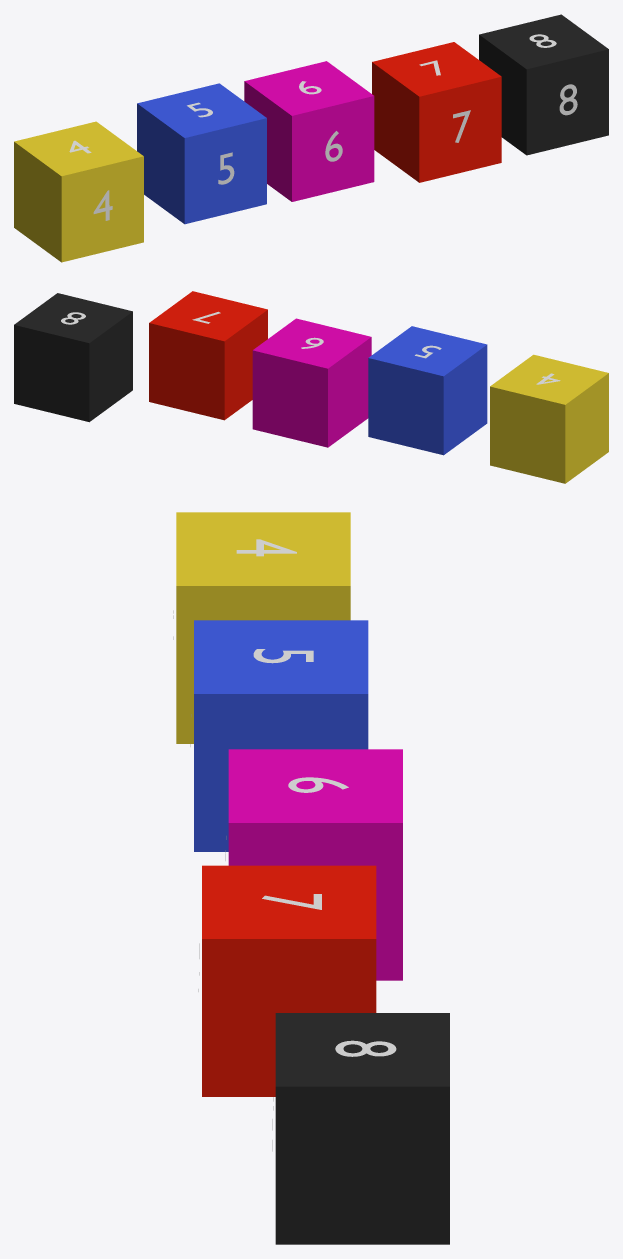
File: Cubes1.fbx
The picture shows the model from 3 angles, top to bottom: view 1: azimuth 30°, elevation 25°; view 2: azimuth 150°, elevation 25°; view 3: azimuth 270°, elevation 25°; orthographic projection. The views are drawn at different scales.
Parts seen in each view (by area): view 1: Cube1, Cube4, Cube2, Cube5, Cube3, Text.009; view 2: Cube2, Cube1, Cube5, Cube3, Cube4; view 3: Cube5, Cube4, Cube2, Cube3, Cube1.
Part boxes in pixels (x1,y1,x2,y2): Cube1: (14,121,143,262); Cube4: (372,42,501,182); Cube2: (137,83,266,224); Cube5: (479,14,608,155); Cube3: (244,61,374,201); Text.009: (559,84,577,115); Cube2: (368,326,487,455); Cube1: (490,354,608,483); Cube5: (14,293,132,422); Cube3: (252,318,371,447); Cube4: (149,291,267,420); Cube5: (275,1013,449,1244); Cube4: (202,865,376,1096); Cube2: (194,620,368,851); Cube3: (228,749,402,980); Cube1: (176,512,350,743).
Size of the model in its own units: 1396 by 285 by 318.
